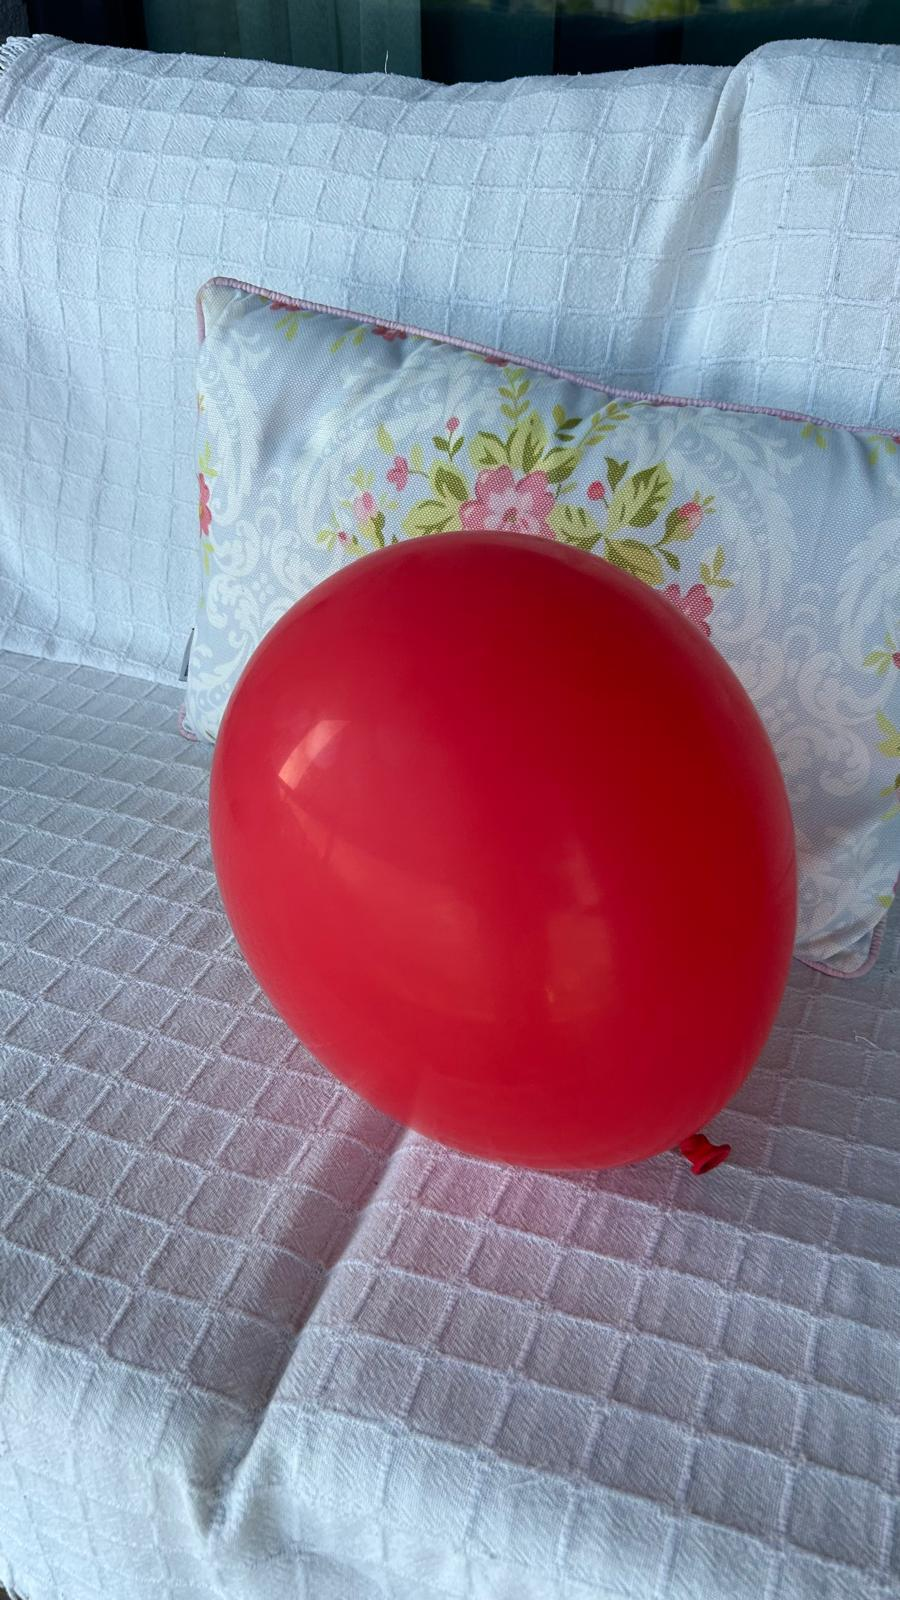red: (208, 524, 804, 1181)
